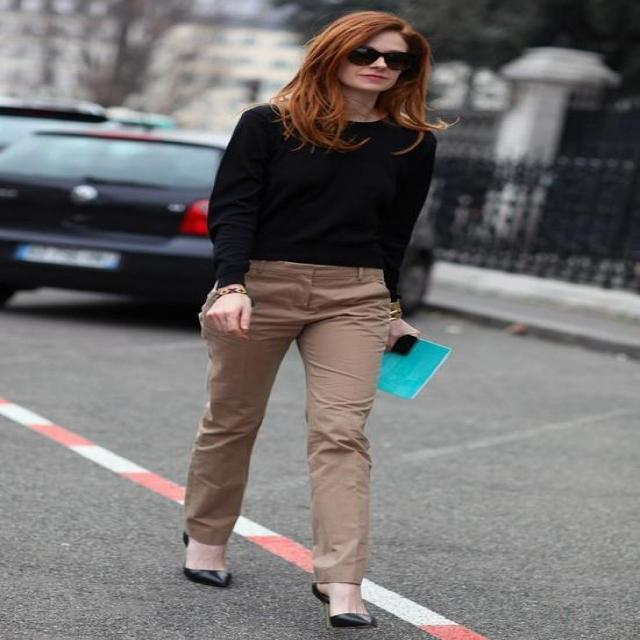Tshirt: (205, 106, 437, 290)
pants: (181, 259, 390, 585)
